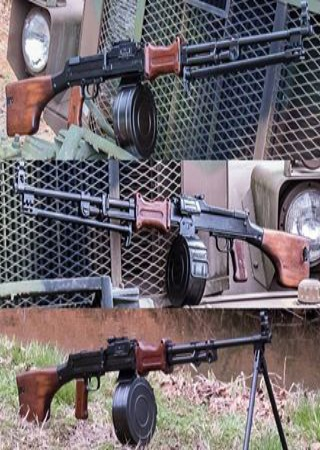rifle: (7, 15, 317, 156), (9, 172, 314, 310), (7, 314, 290, 445)
